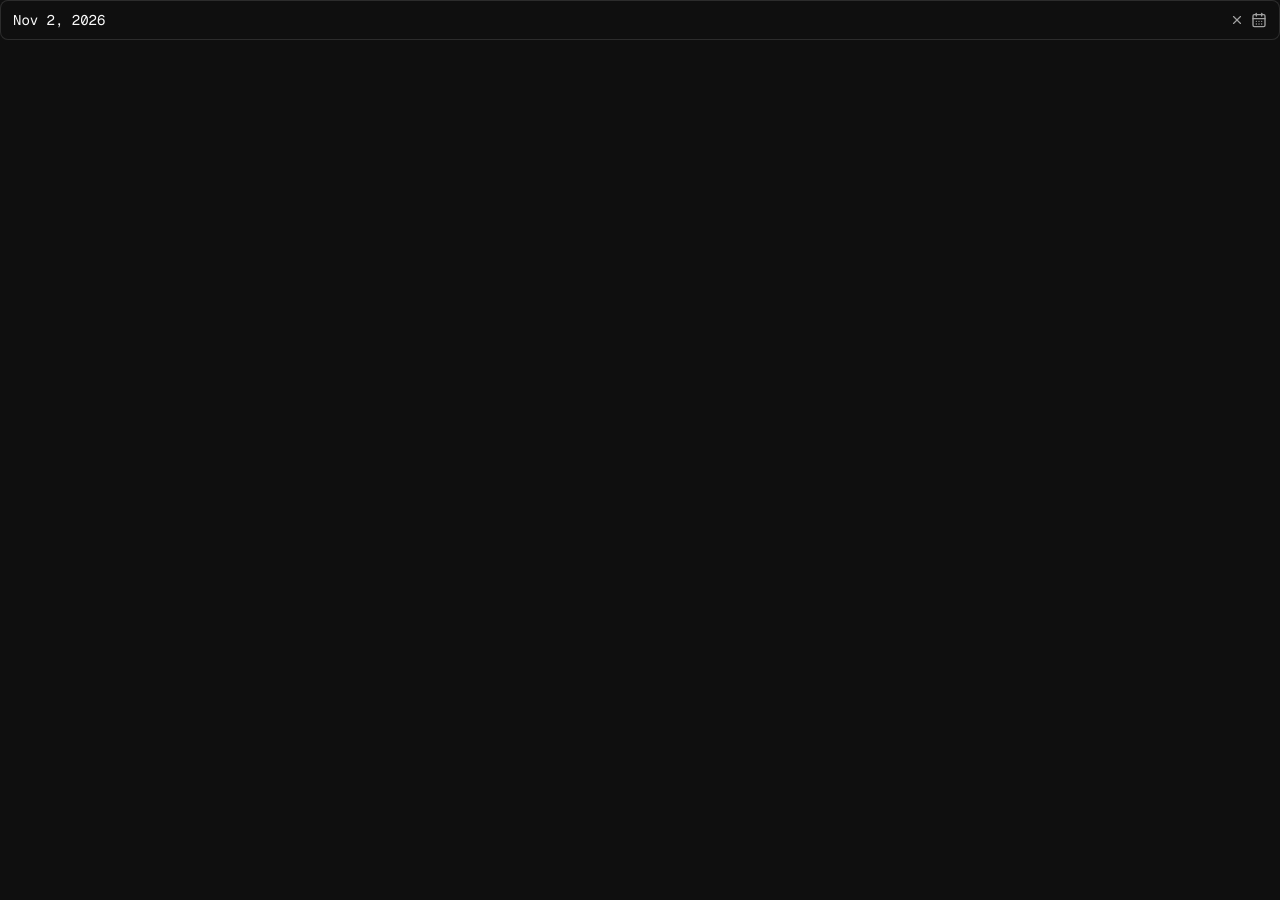
Test case: DateField popup › disables days outside min/max
Click the button "Nov 2, 2026": (59, 20) [13,10,1223,30]
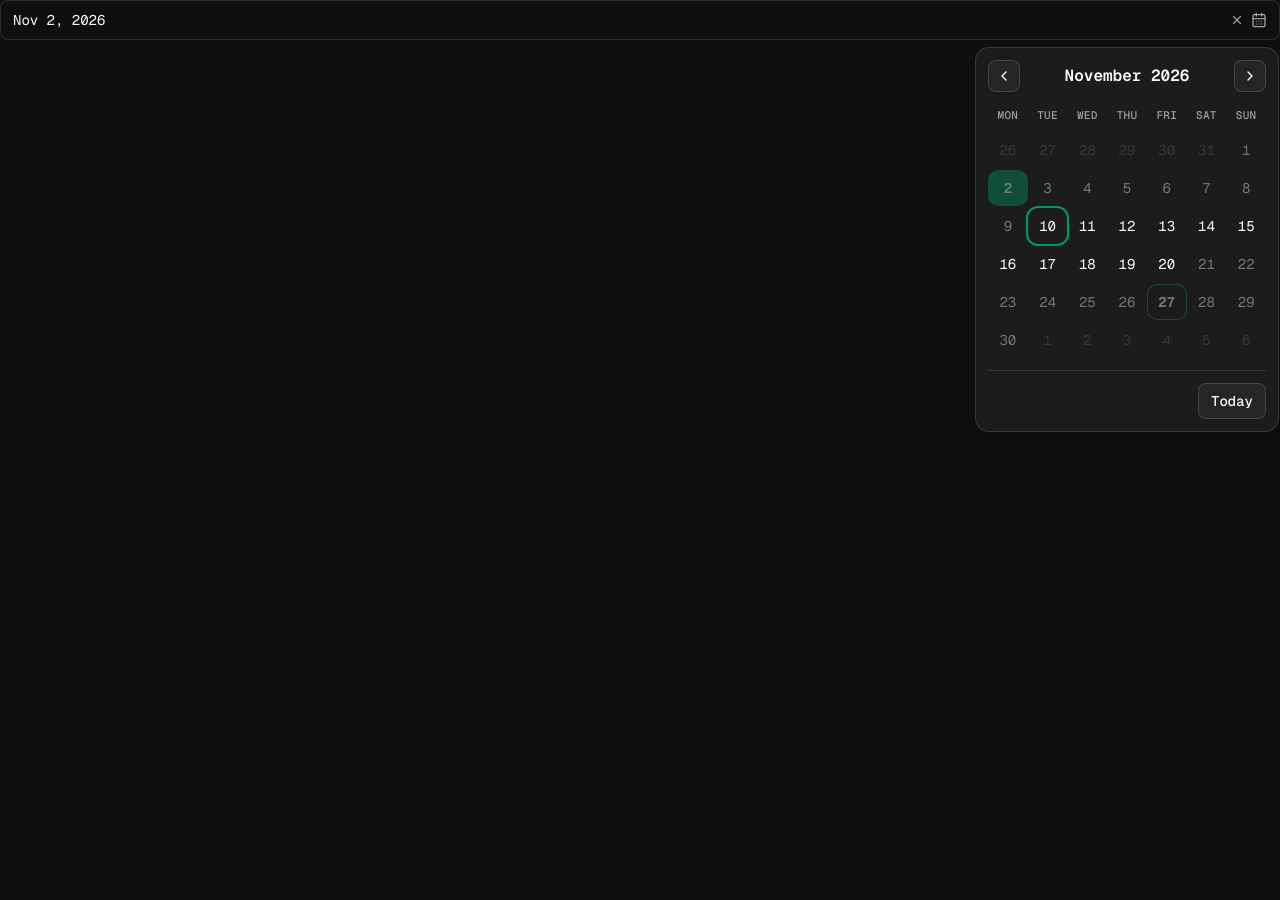
Result: the button named "Monday, November 2, 2026" is disabled at [988,170,1028,206]
Result: the button named "Tuesday, November 10, 2026" is enabled at [1028,208,1067,244]
